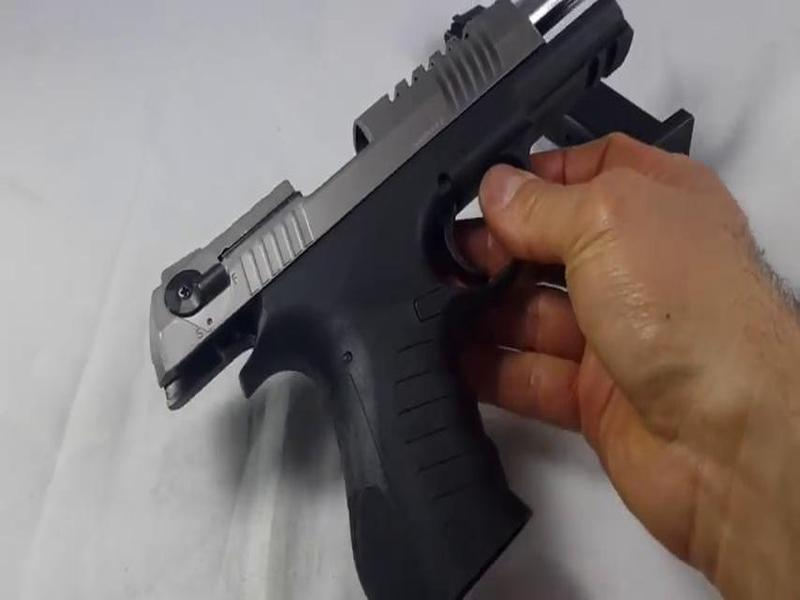Pistola: (146, 1, 662, 598)
